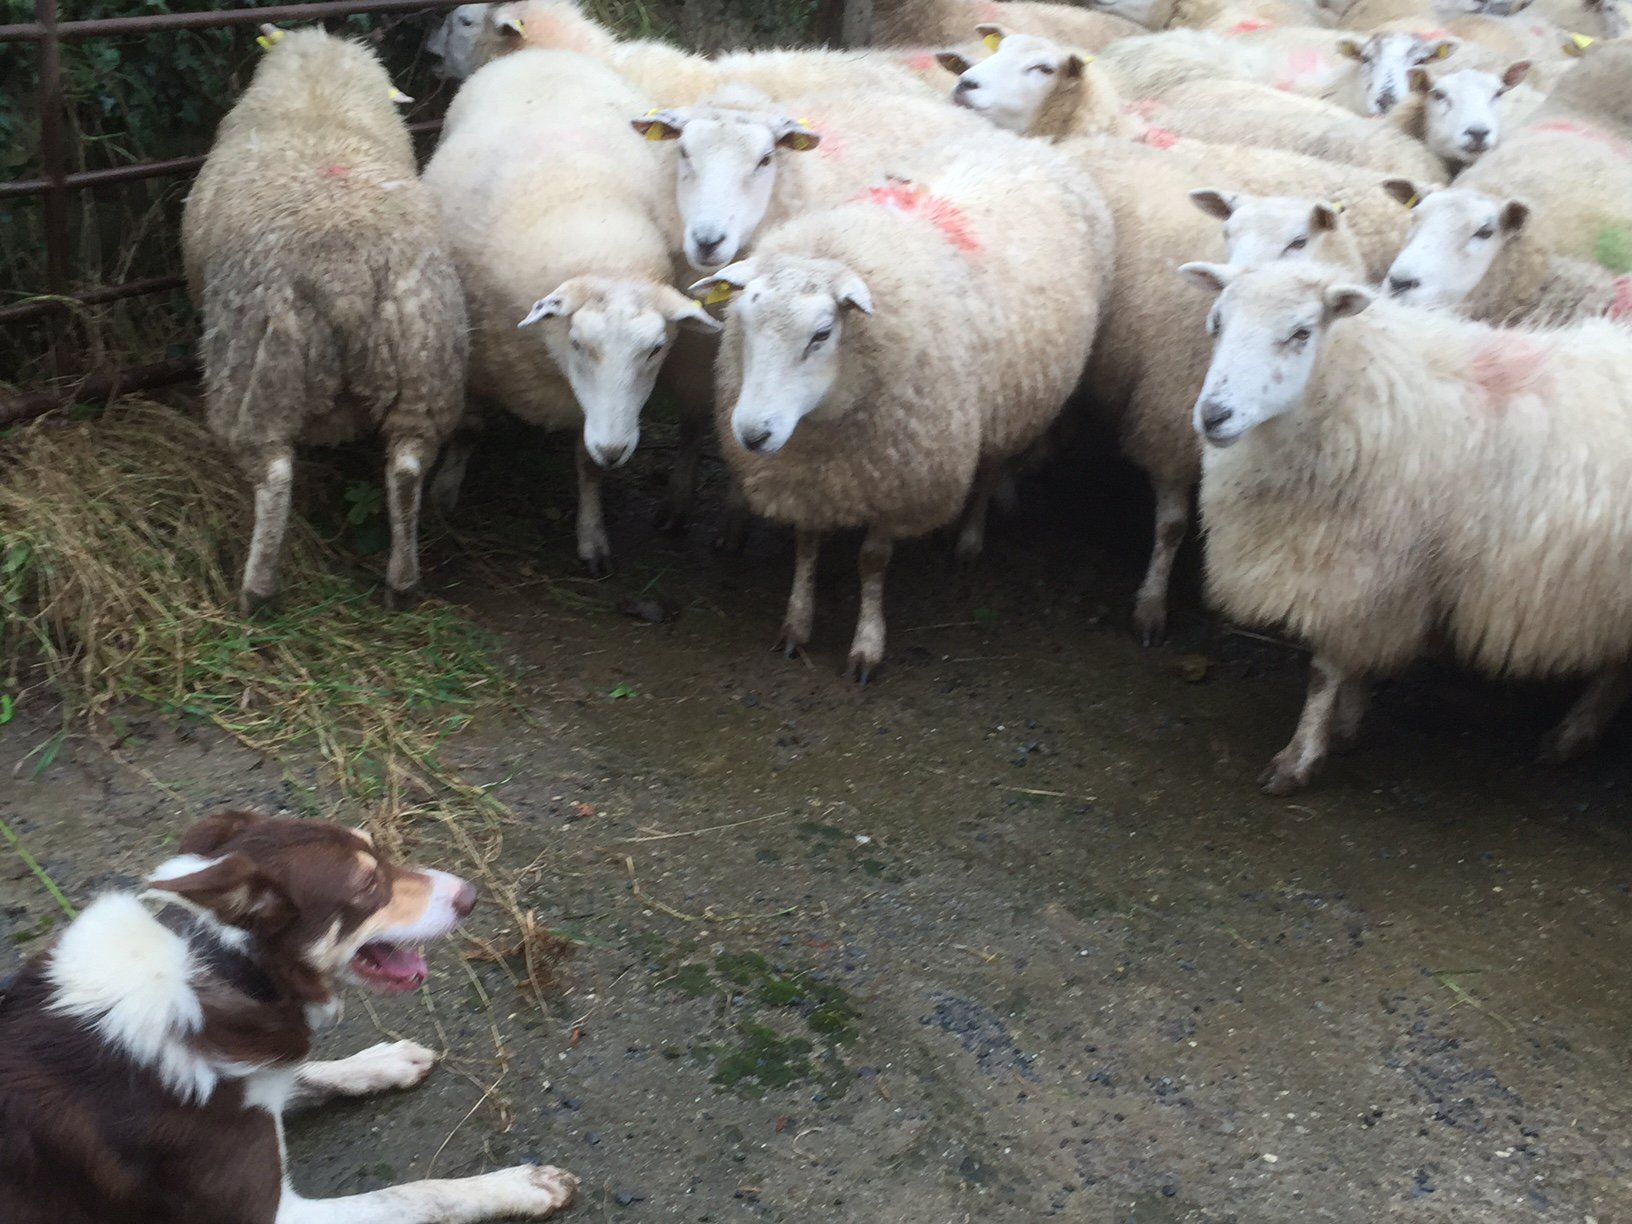sheep: (1160, 246, 1632, 778), (727, 135, 1142, 676), (154, 33, 452, 644), (423, 60, 675, 579), (1345, 167, 1591, 363), (1343, 10, 1570, 197), (1177, 165, 1388, 351), (604, 78, 788, 269), (950, 39, 1198, 153)
